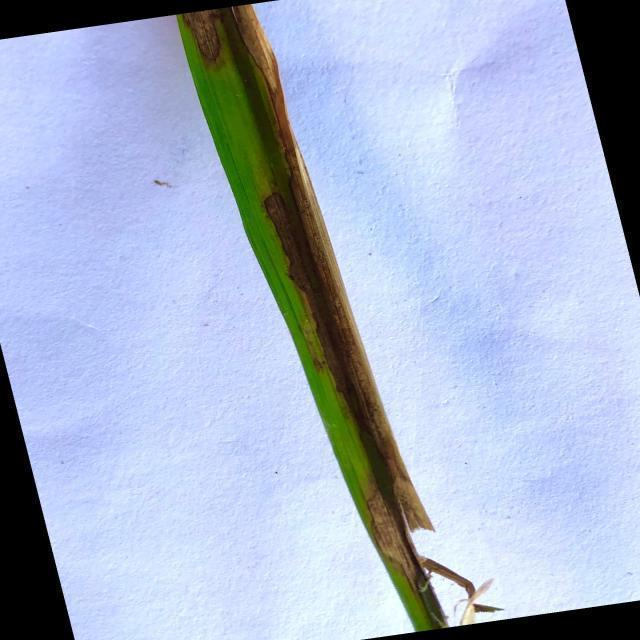Bacterial_Leaf_Blight: (229, 0, 447, 529), (364, 495, 437, 597), (185, 10, 224, 66)
